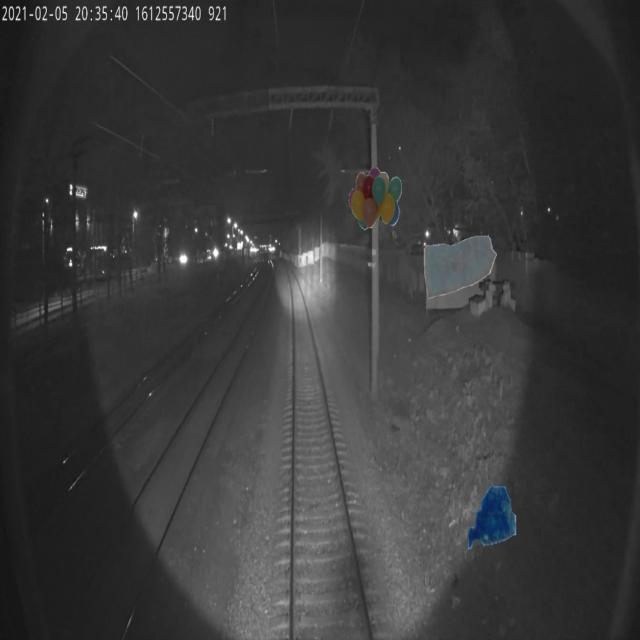balloon: (348, 166, 402, 230)
plastic bag: (423, 236, 498, 300), (467, 486, 519, 550)
